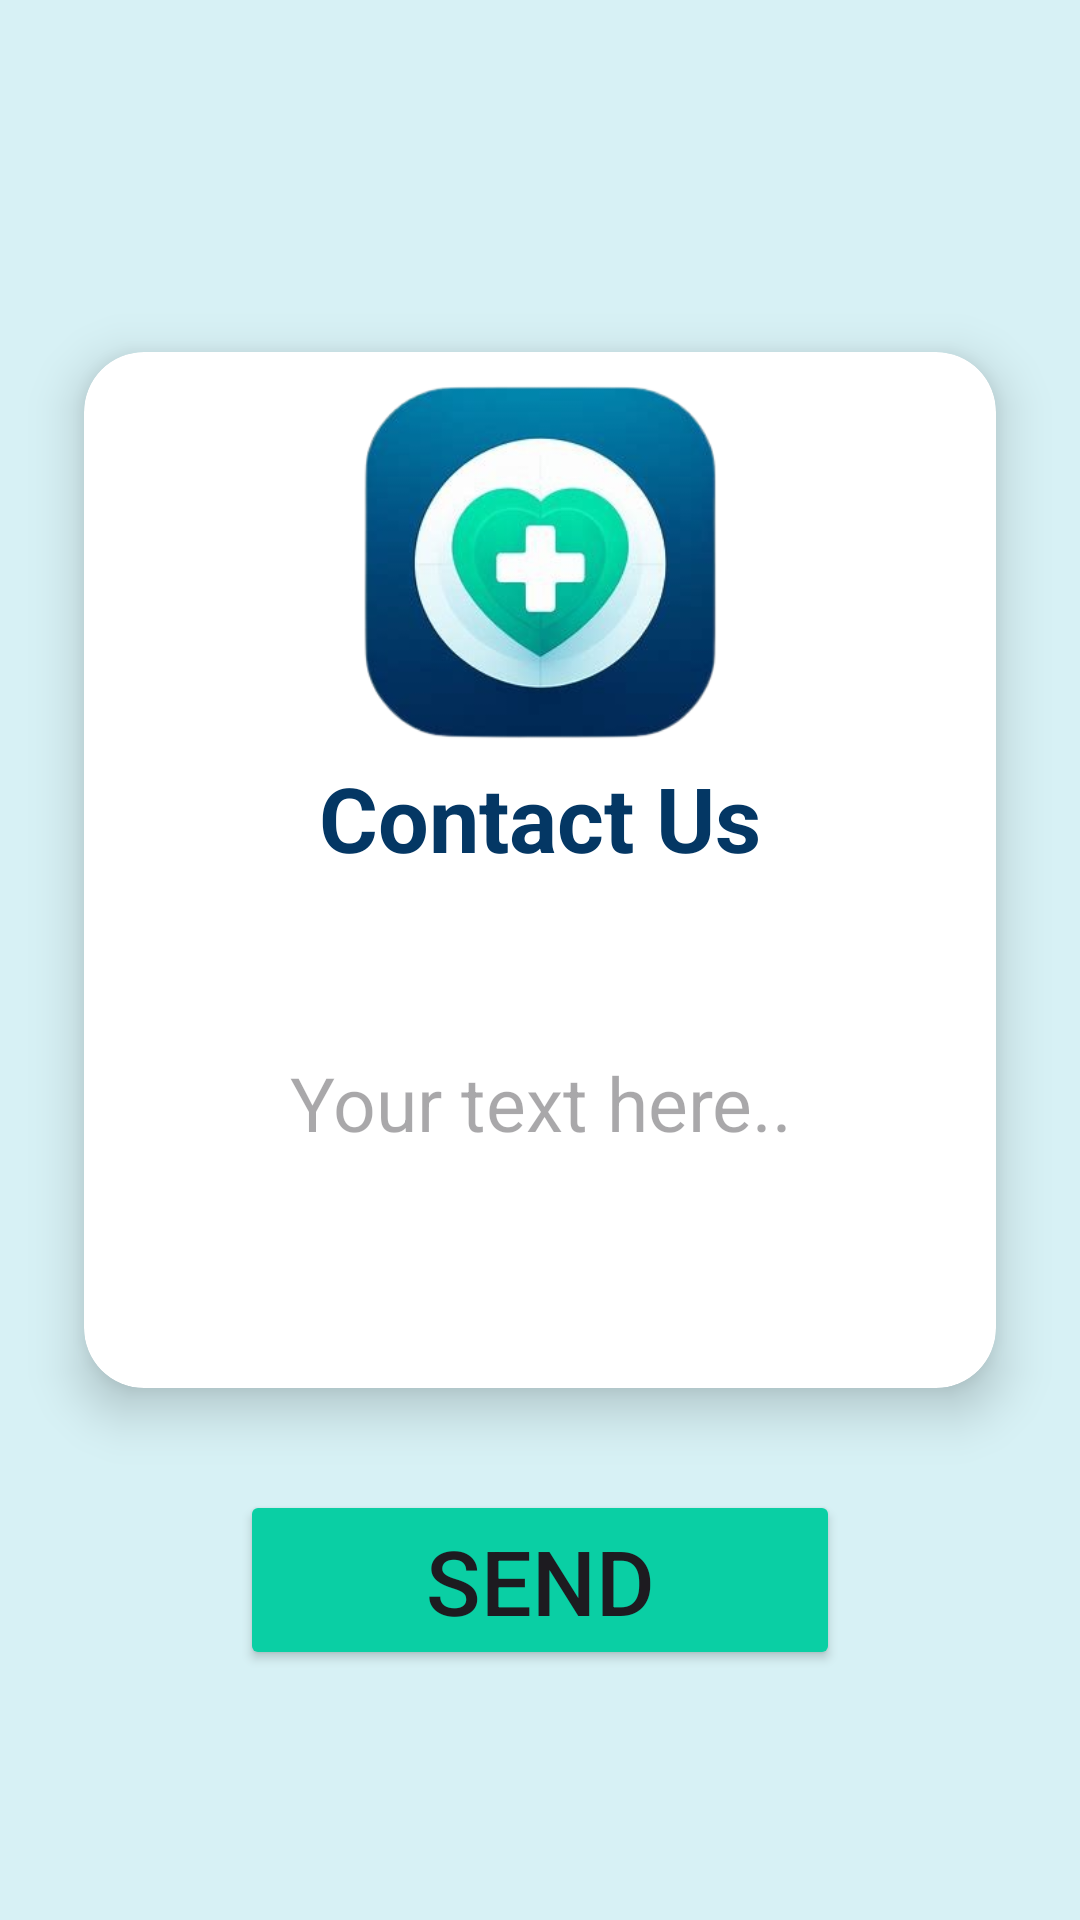

Icons on this 1080*1920 Android screen, each with its box as box(x1, y1, x2, y2):
app: box(364, 387, 716, 738)
